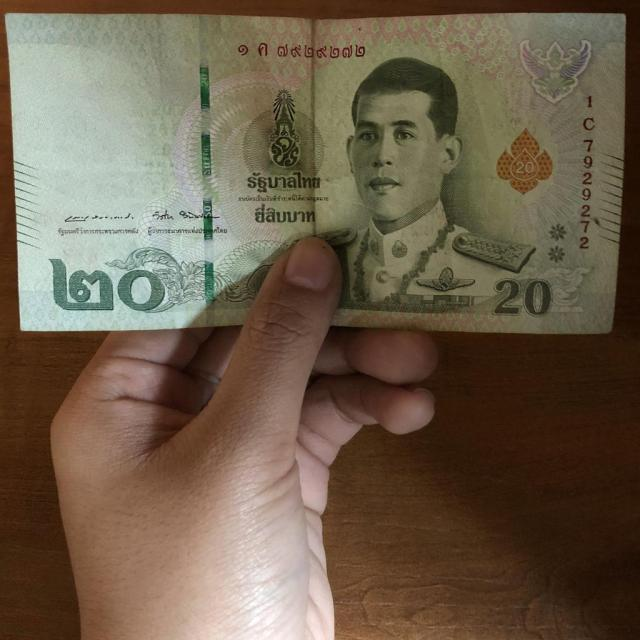THAI20: (6, 12, 626, 334)
